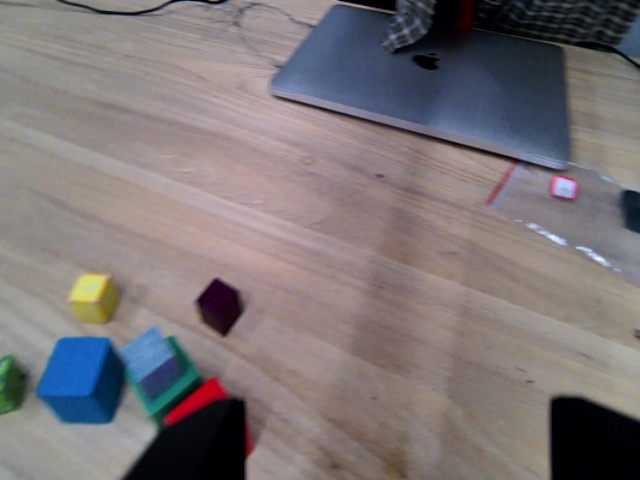brick: (195, 275, 245, 332)
grass: (1, 353, 28, 415)
lucky: (70, 273, 116, 323)
stone: (120, 327, 178, 394)
